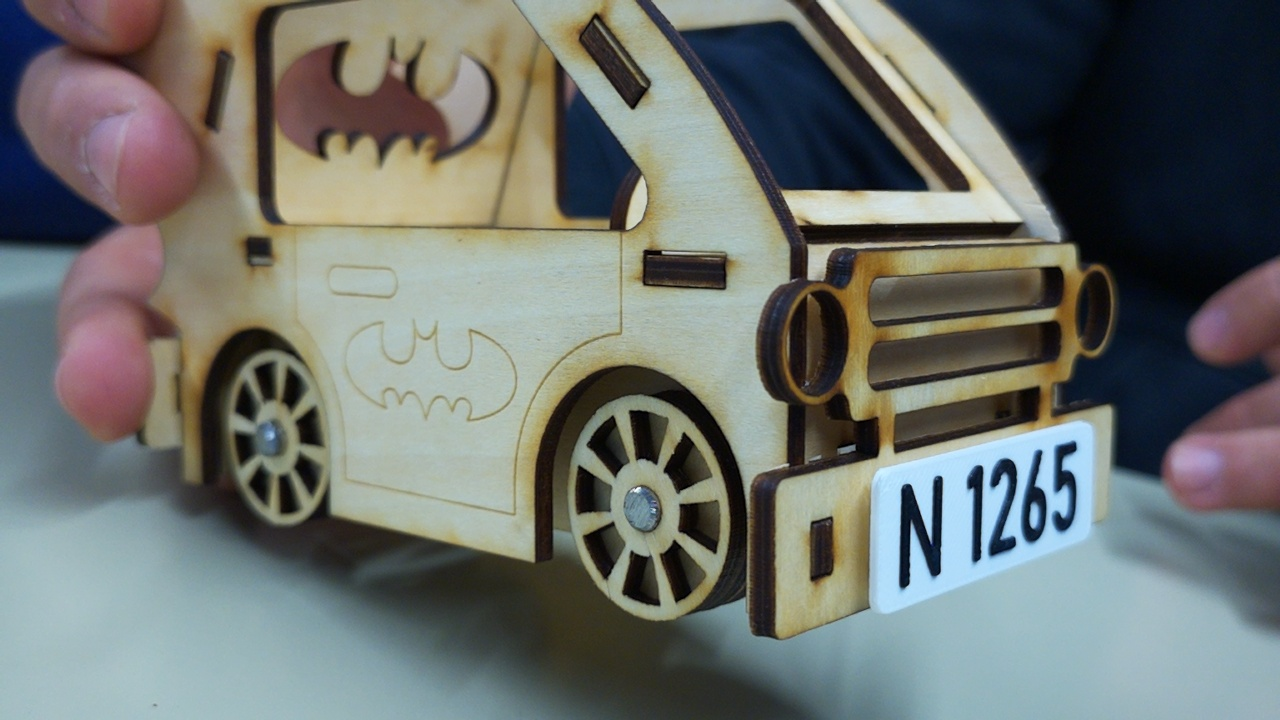license_plate: (865, 419, 1096, 619)
